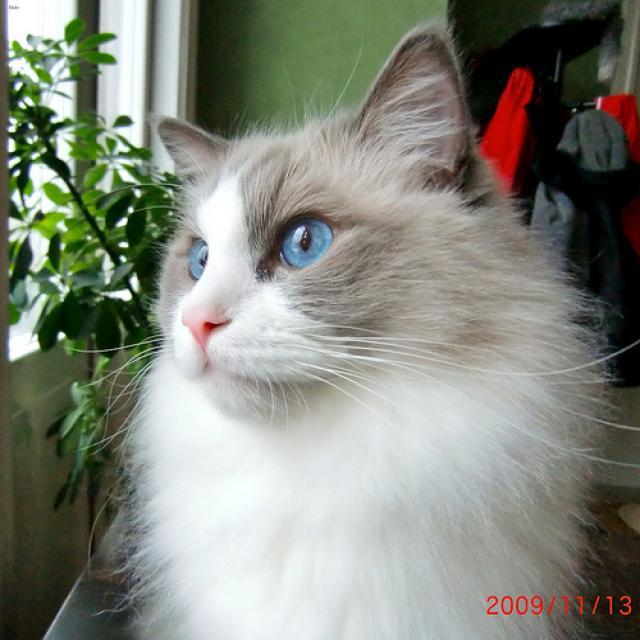Ragdoll: (156, 21, 469, 418)
